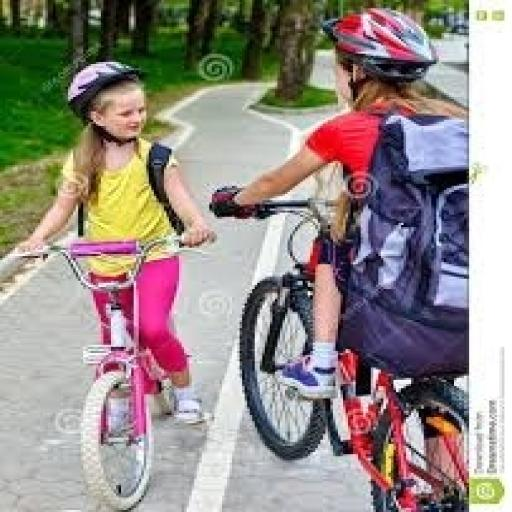cycling: (207, 6, 469, 510), (10, 58, 217, 436)
